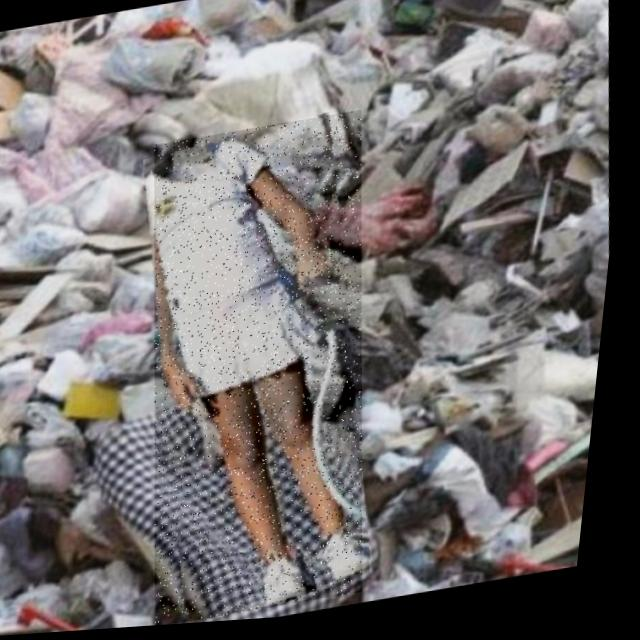Person in Rubble: (118, 112, 415, 631)
